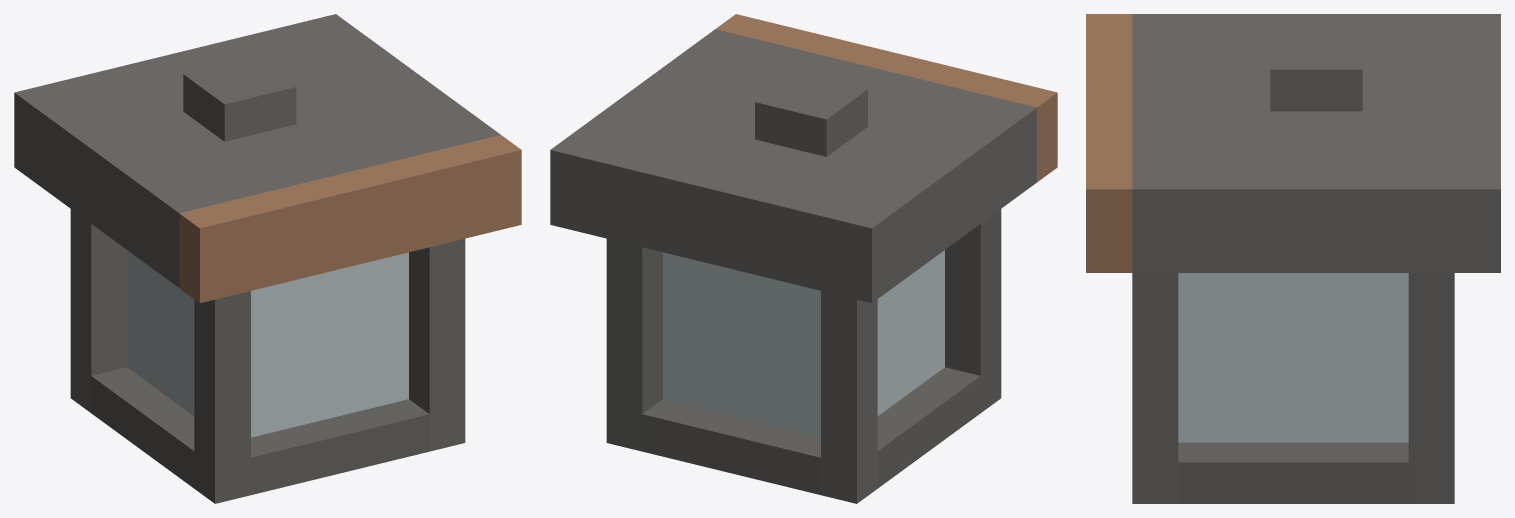
Rendered from farolillo_mesa_oxidado_01.glb.
3 views of the same model, side by side, from view 1: azimuth 30°, elevation 25°; view 2: azimuth 150°, elevation 25°; view 3: azimuth 270°, elevation 25° (orthographic). The views are drawn at different scales.
Parts seen in each view (by area): view 1: farolillo_mesa_oxidado; view 2: farolillo_mesa_oxidado; view 3: farolillo_mesa_oxidado.
Part boxes in pixels (x1=…): farolillo_mesa_oxidado: x1=14, y1=14, x2=521, y2=503; farolillo_mesa_oxidado: x1=550, y1=14, x2=1057, y2=503; farolillo_mesa_oxidado: x1=1086, y1=14, x2=1500, y2=503.
Size of the model in its own units: 0.6 by 0.6 by 0.6.
